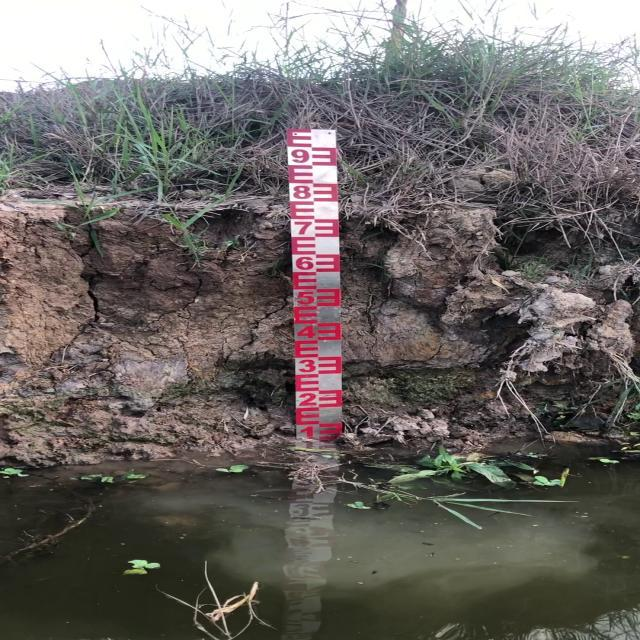ruler: (262, 115, 375, 466)
value: (288, 218, 316, 240), (296, 422, 320, 447), (288, 144, 314, 167), (290, 252, 317, 274), (290, 181, 315, 203), (291, 287, 317, 308), (292, 320, 318, 341), (292, 355, 318, 376), (294, 388, 318, 409)
